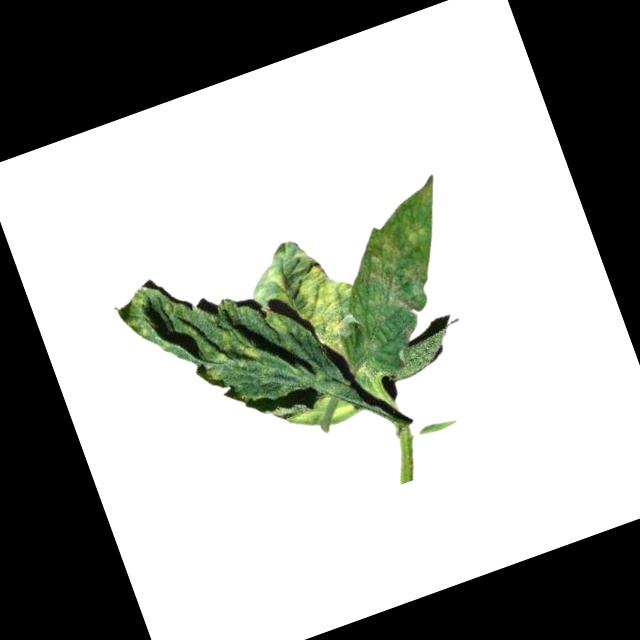Leaf_Mold: (328, 174, 482, 351), (111, 253, 275, 412), (246, 240, 381, 387)
